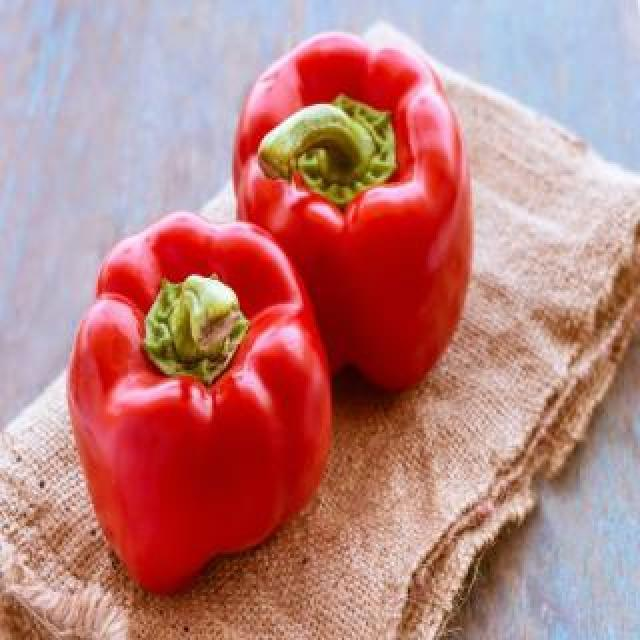bell_pepper: (65, 211, 338, 596), (233, 29, 475, 398)
